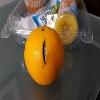Orange Rotten: (23, 23, 66, 91)
